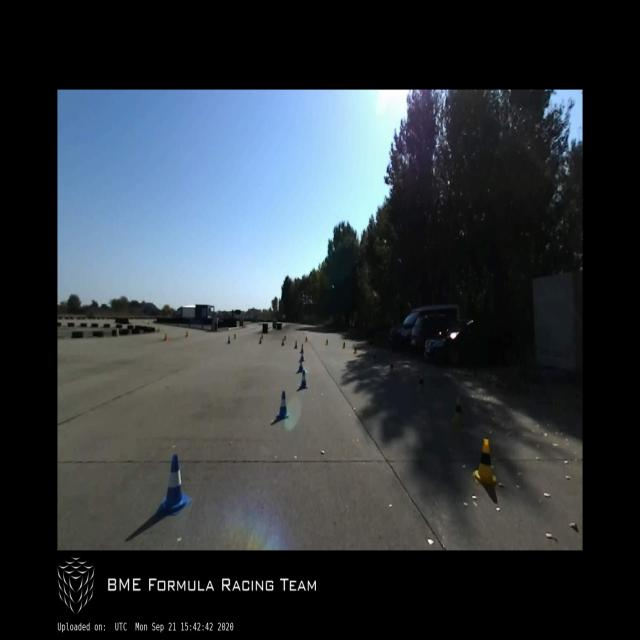blue_cone: (157, 452, 191, 516), (275, 391, 290, 418), (298, 369, 308, 388), (297, 358, 304, 373), (299, 350, 305, 362), (300, 343, 304, 353), (294, 341, 298, 349), (258, 336, 262, 344), (227, 336, 230, 344), (282, 339, 284, 345)
unknown_cone: (164, 332, 167, 341), (185, 329, 188, 336)
yellow_cone: (473, 438, 498, 487), (450, 397, 466, 429), (416, 373, 426, 394), (388, 360, 395, 375), (373, 352, 377, 363), (353, 346, 358, 353), (342, 341, 346, 348), (326, 339, 328, 345), (306, 336, 308, 342), (284, 335, 286, 340), (234, 334, 236, 338), (261, 336, 263, 340)
